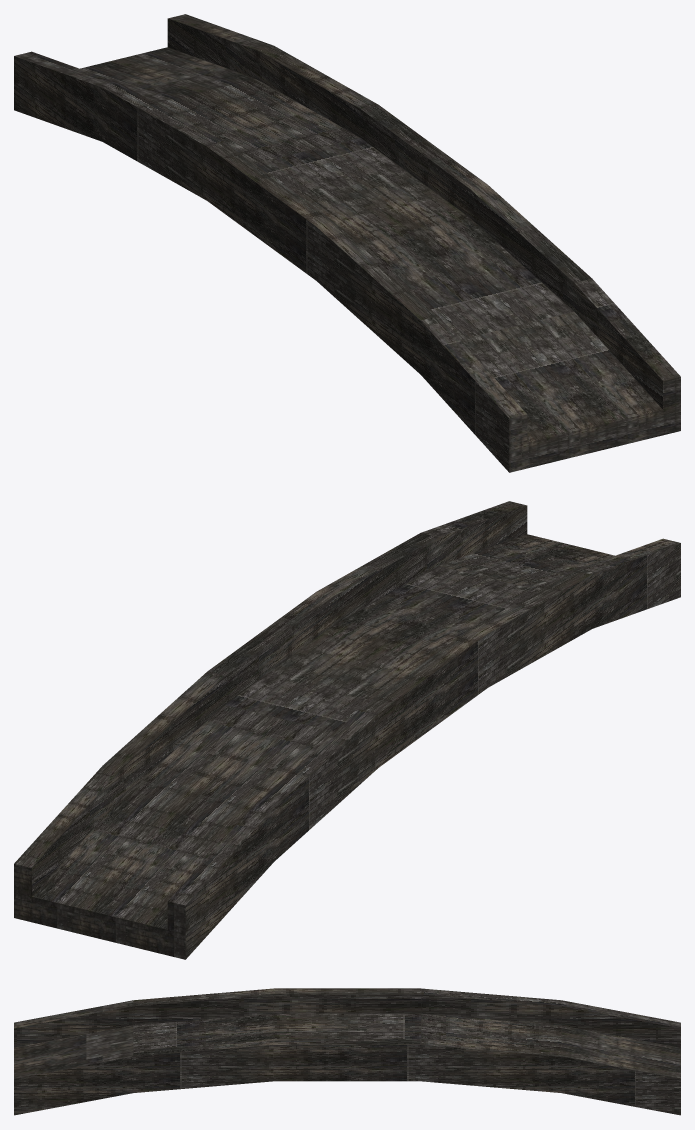
The model's file is Bridge.glb.
The picture shows the model from 3 angles, top to bottom: view 1: azimuth 30°, elevation 25°; view 2: azimuth 150°, elevation 25°; view 3: azimuth 270°, elevation 25°; orthographic projection. The views are drawn at different scales.
Parts seen in each view (by area): view 1: Cube.001; view 2: Cube.001; view 3: Cube.001.
Boxes of the visible parts, x1=… form: Cube.001: x1=14, y1=14, x2=680, y2=472; Cube.001: x1=14, y1=501, x2=680, y2=959; Cube.001: x1=14, y1=988, x2=680, y2=1115.
Size of the model in its own units: 4 by 2.34 by 20.
1 material, 1 textured.
